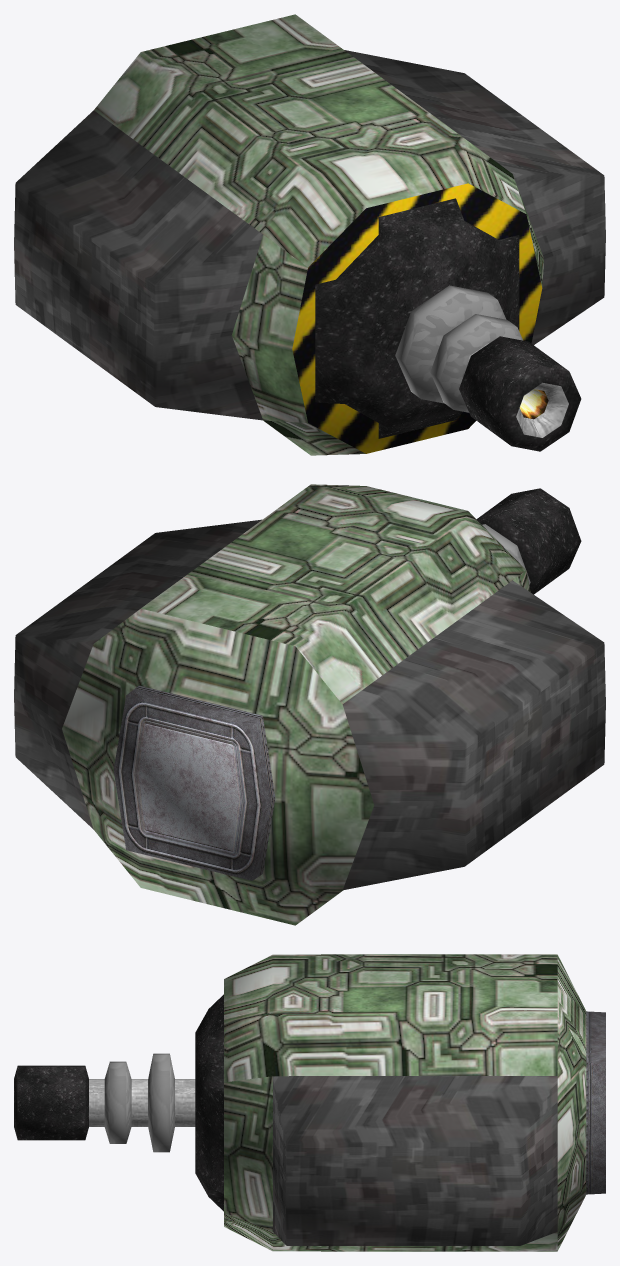
File: gunAutoSmall.obj
3 renders of one model, top to bottom at view 1: azimuth 30°, elevation 25°; view 2: azimuth 150°, elevation 25°; view 3: azimuth 270°, elevation 25°, orthographic. The views are drawn at different scales.
Visible parts, largest first — view 1: gunMini_Cylinder.005; view 2: gunMini_Cylinder.005; view 3: gunMini_Cylinder.005.
Boxes of the visible parts, bbox=[...] form: gunMini_Cylinder.005: bbox=[14, 14, 605, 455]; gunMini_Cylinder.005: bbox=[14, 484, 605, 925]; gunMini_Cylinder.005: bbox=[14, 954, 605, 1251].
Bounding box in the file's own units: 0.3015 × 0.1781 × 0.4083.
Materials: 1 (1 with a texture image).
